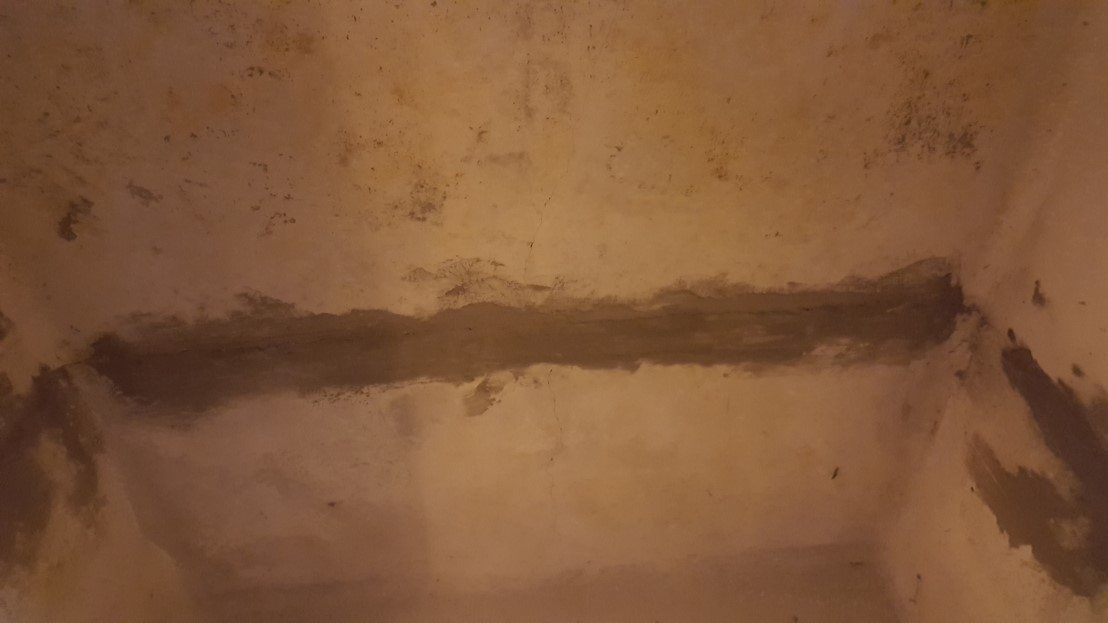Crack: (506, 90, 581, 325), (530, 345, 583, 559)
